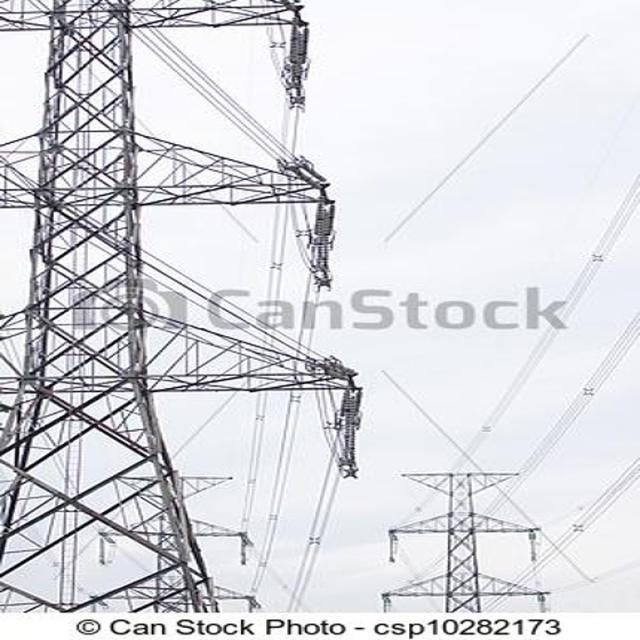non-critical vegetation: (17, 6, 290, 588), (398, 458, 544, 588)
